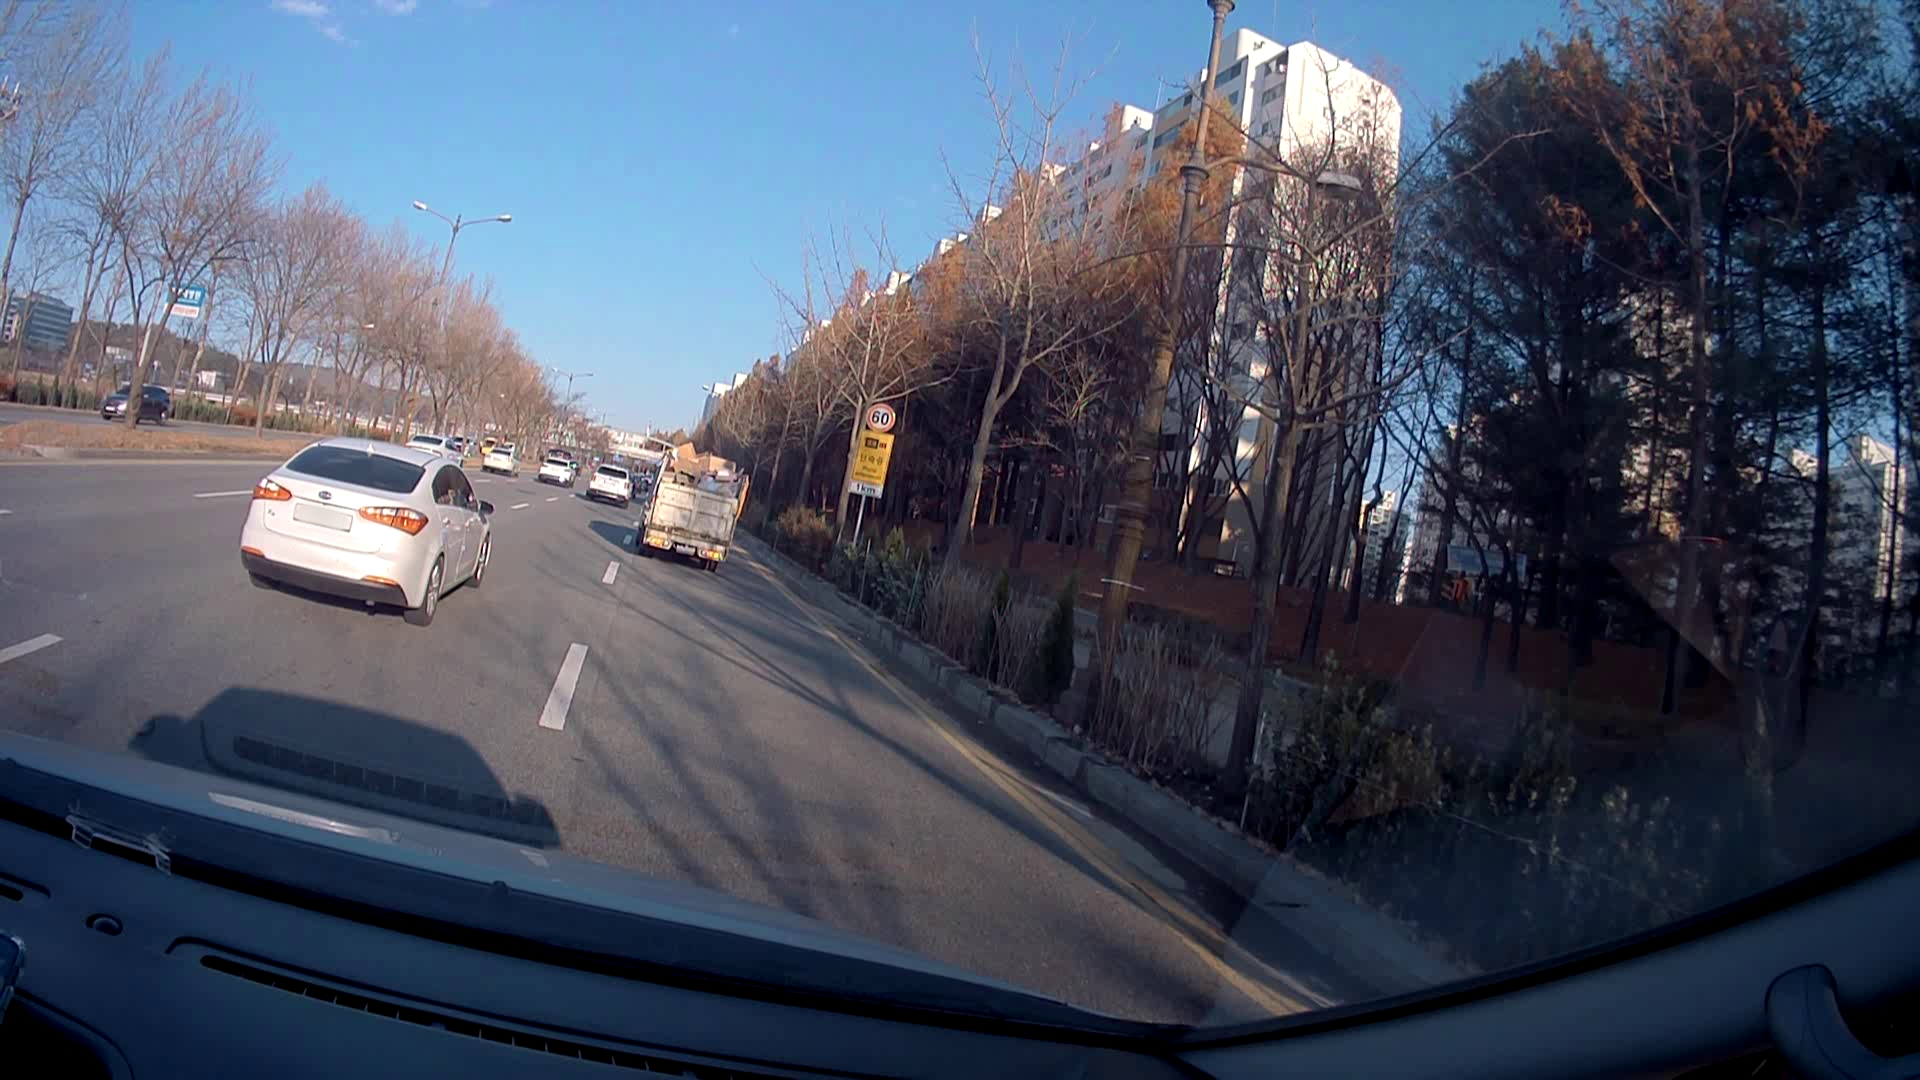trafficSignCircle: (860, 402, 899, 436)
